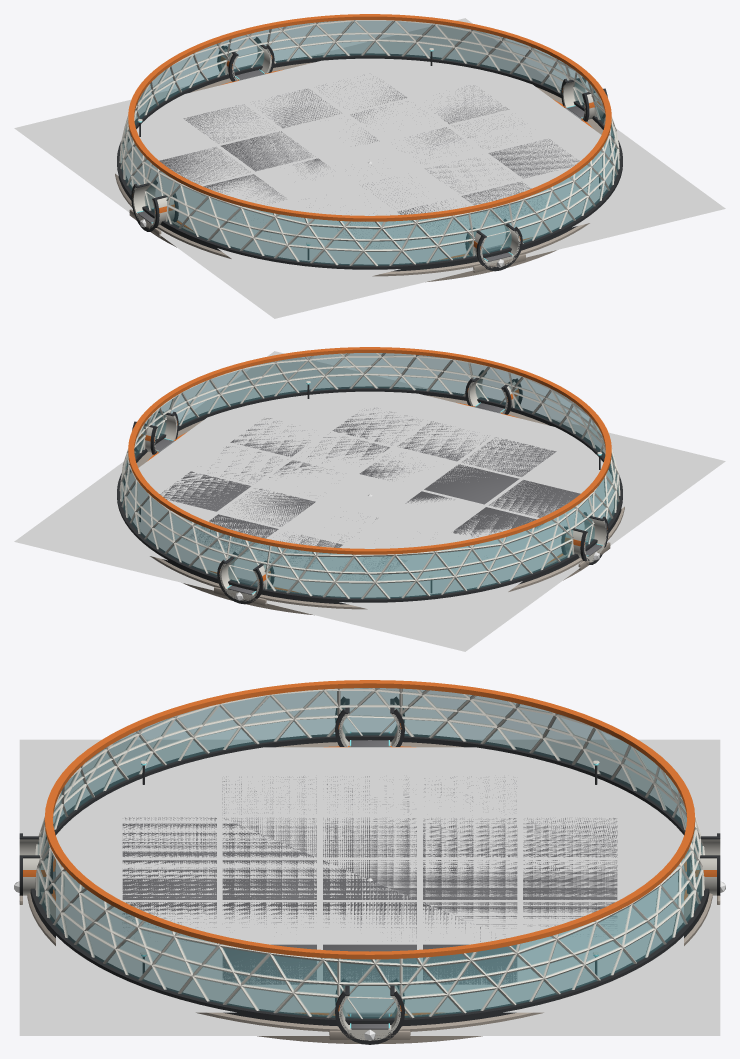
The model's file is dome_7x7_cut.gltf.
3 renders of one model, top to bottom at view 1: azimuth 30°, elevation 25°; view 2: azimuth 150°, elevation 25°; view 3: azimuth 270°, elevation 25°, orthographic. The views are drawn at different scales.
Visible parts, largest first — view 1: %P%Interior, DomeMedium, %P%Footprint, %V%AnchorIn.001+, %V%AnchorIn.003+, %V%AnchorIn.002+, %V%AnchorIn+, %V%AnchorIn.003-, %V%AnchorIn.002-; view 2: %P%Interior, DomeMedium, %P%Footprint, %V%AnchorIn.002+, %V%AnchorIn.001+, %V%AnchorIn.003+, %V%AnchorIn+, %V%AnchorIn.002-, %V%AnchorIn.003-; view 3: %P%Interior, DomeMedium, %P%Footprint, %V%AnchorIn+, %V%AnchorIn-, %V%AnchorIn.001-, %V%AnchorIn.003+, %V%AnchorIn.001+, %V%AnchorIn.002+.
Boxes of the visible parts, x1,y1,x2,y2 form: %P%Interior: [51, 28, 688, 297]; DomeMedium: [115, 14, 622, 282]; %P%Footprint: [14, 18, 725, 318]; %V%AnchorIn.001+: [129, 179, 178, 237]; %V%AnchorIn.003+: [465, 218, 525, 272]; %V%AnchorIn.002+: [217, 37, 274, 81]; %V%AnchorIn+: [561, 77, 607, 121]; %V%AnchorIn.003-: [473, 223, 511, 255]; %V%AnchorIn.002-: [227, 44, 266, 73]; %P%Interior: [51, 362, 688, 630]; DomeMedium: [117, 347, 624, 615]; %P%Footprint: [14, 351, 725, 651]; %V%AnchorIn.002+: [214, 551, 274, 605]; %V%AnchorIn.001+: [561, 512, 610, 570]; %V%AnchorIn.003+: [465, 370, 522, 414]; %V%AnchorIn+: [132, 411, 178, 454]; %V%AnchorIn.002-: [228, 556, 266, 588]; %V%AnchorIn.003-: [473, 377, 512, 406]; %P%Interior: [56, 747, 683, 1012]; DomeMedium: [27, 680, 712, 1044]; %P%Footprint: [19, 739, 720, 1035]; %V%AnchorIn+: [329, 978, 410, 1044]; %V%AnchorIn-: [339, 985, 400, 1018]; %V%AnchorIn.001-: [339, 707, 399, 735]; %V%AnchorIn.003+: [19, 833, 55, 904]; %V%AnchorIn.001+: [335, 696, 404, 747]; %V%AnchorIn.002+: [684, 833, 720, 904].
Bounding box in the file's own units: 14.23 × 1.8 × 14.22.
